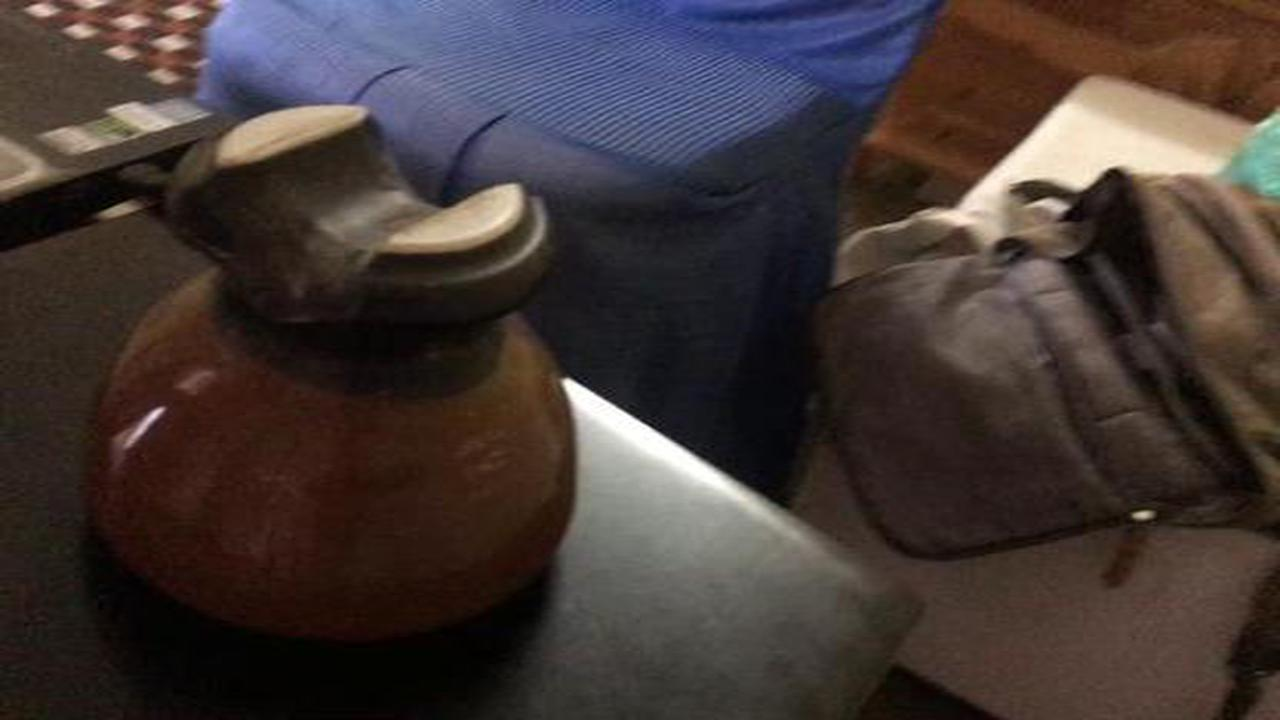insulator_pin: (74, 85, 604, 651)
